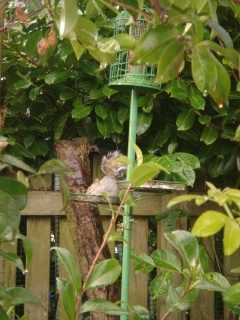Squirrel: (86, 147, 134, 202)
